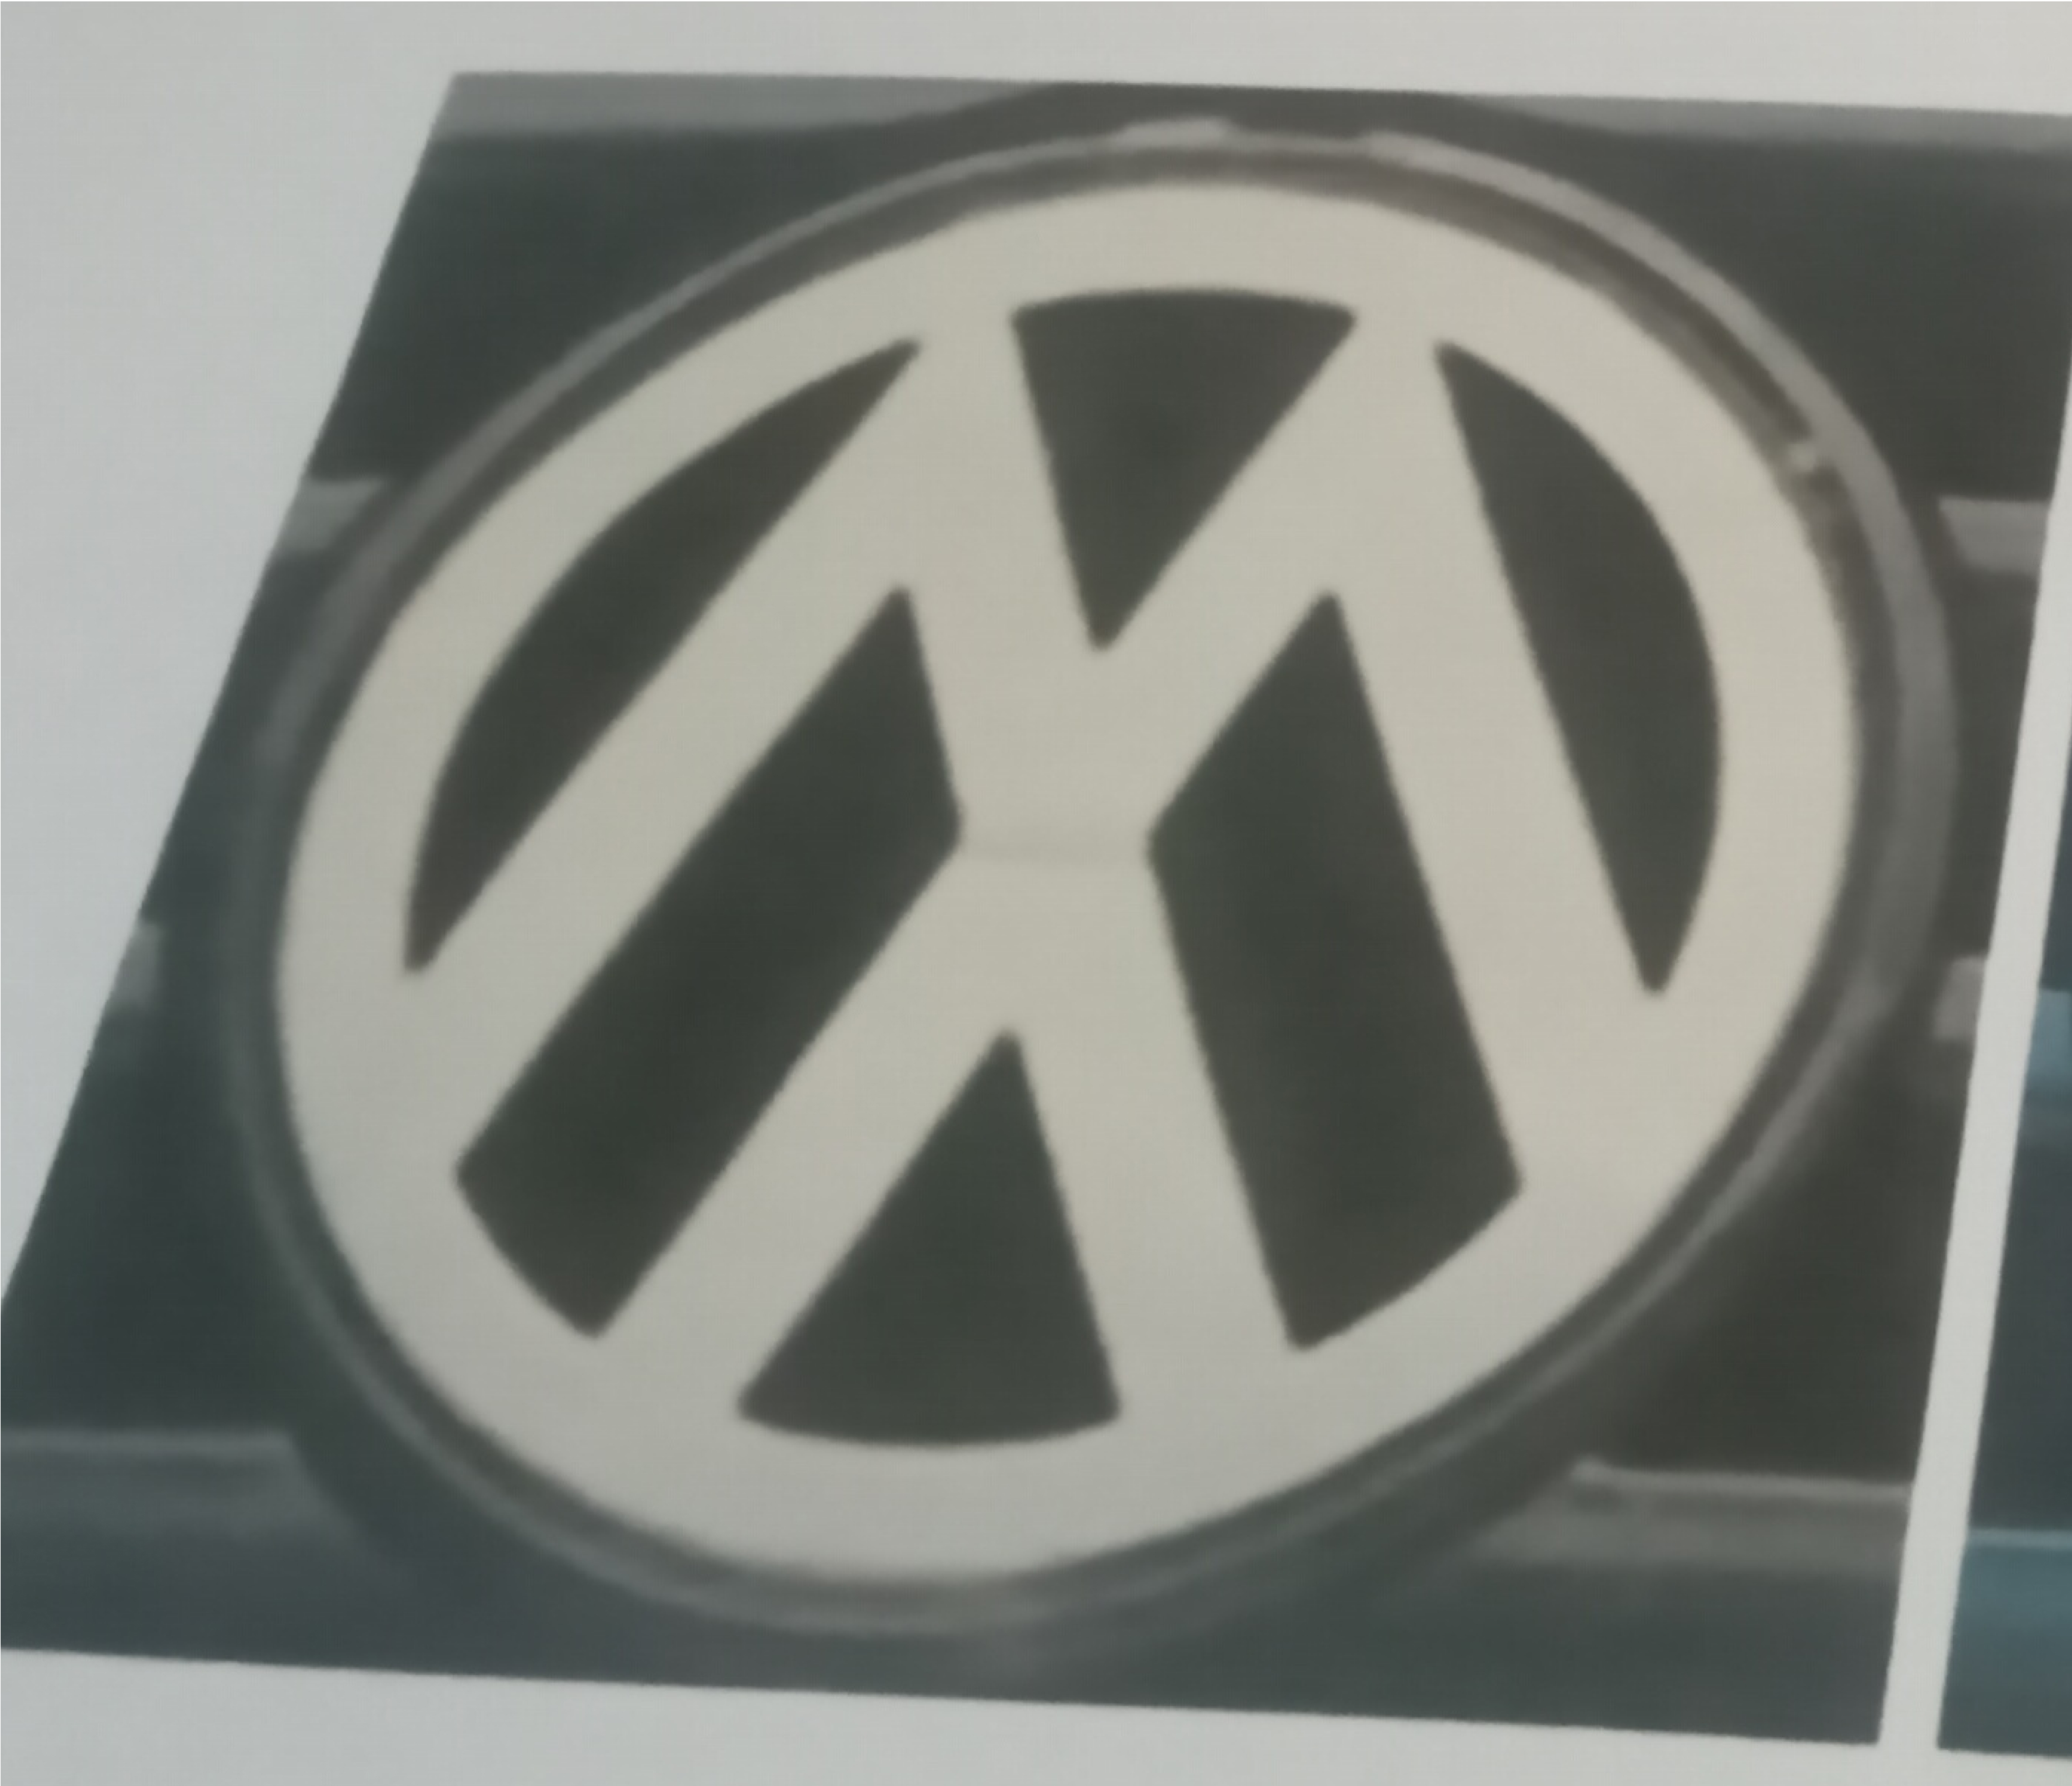Volkswagen: (187, 127, 1959, 1664)
